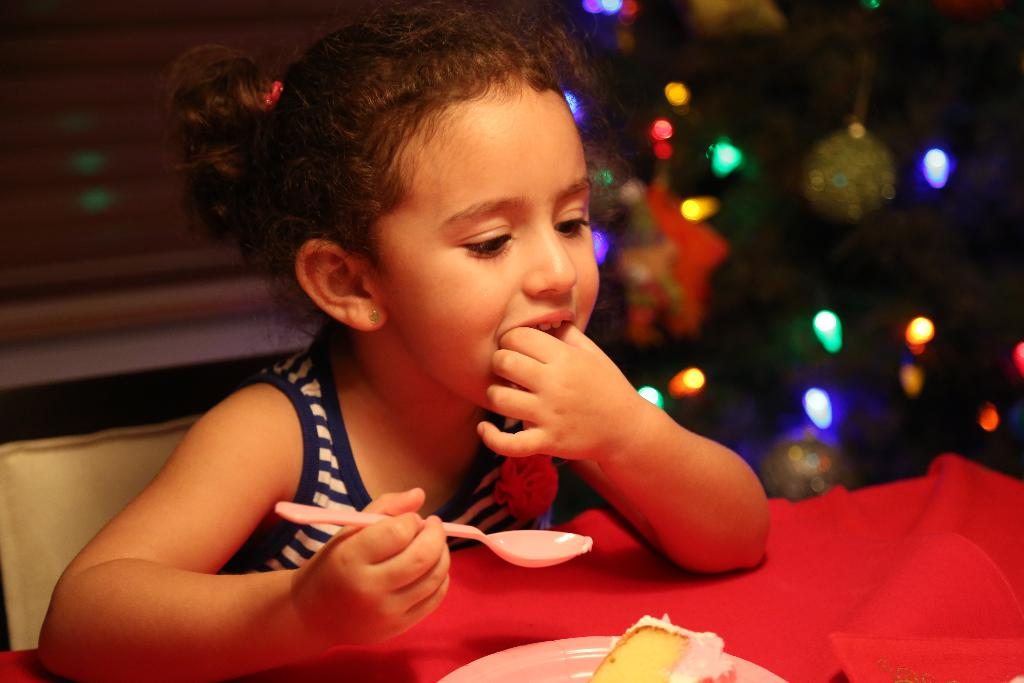cake: (591, 598, 742, 682)
